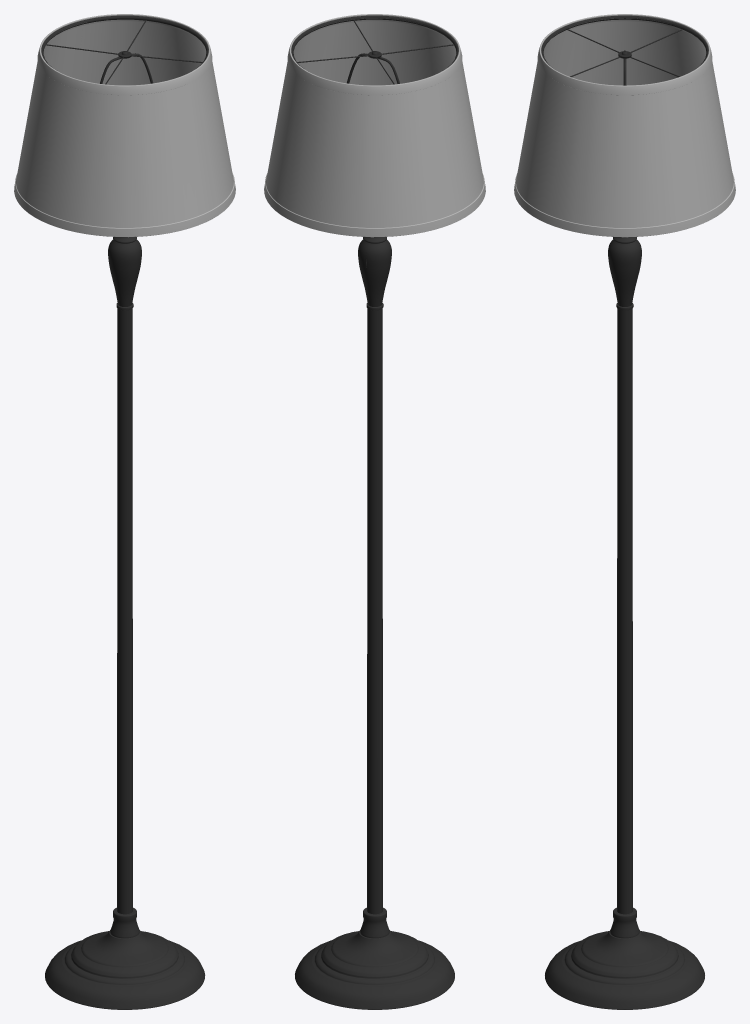
File: abo-B07DBCMTD3.glb
3 renders of one model, left to right at view 1: azimuth 30°, elevation 25°; view 2: azimuth 150°, elevation 25°; view 3: azimuth 270°, elevation 25°, orthographic.
Size of the model in its own units: 0.327 by 1.51 by 0.327.
Materials: 1 (1 with a texture image).
